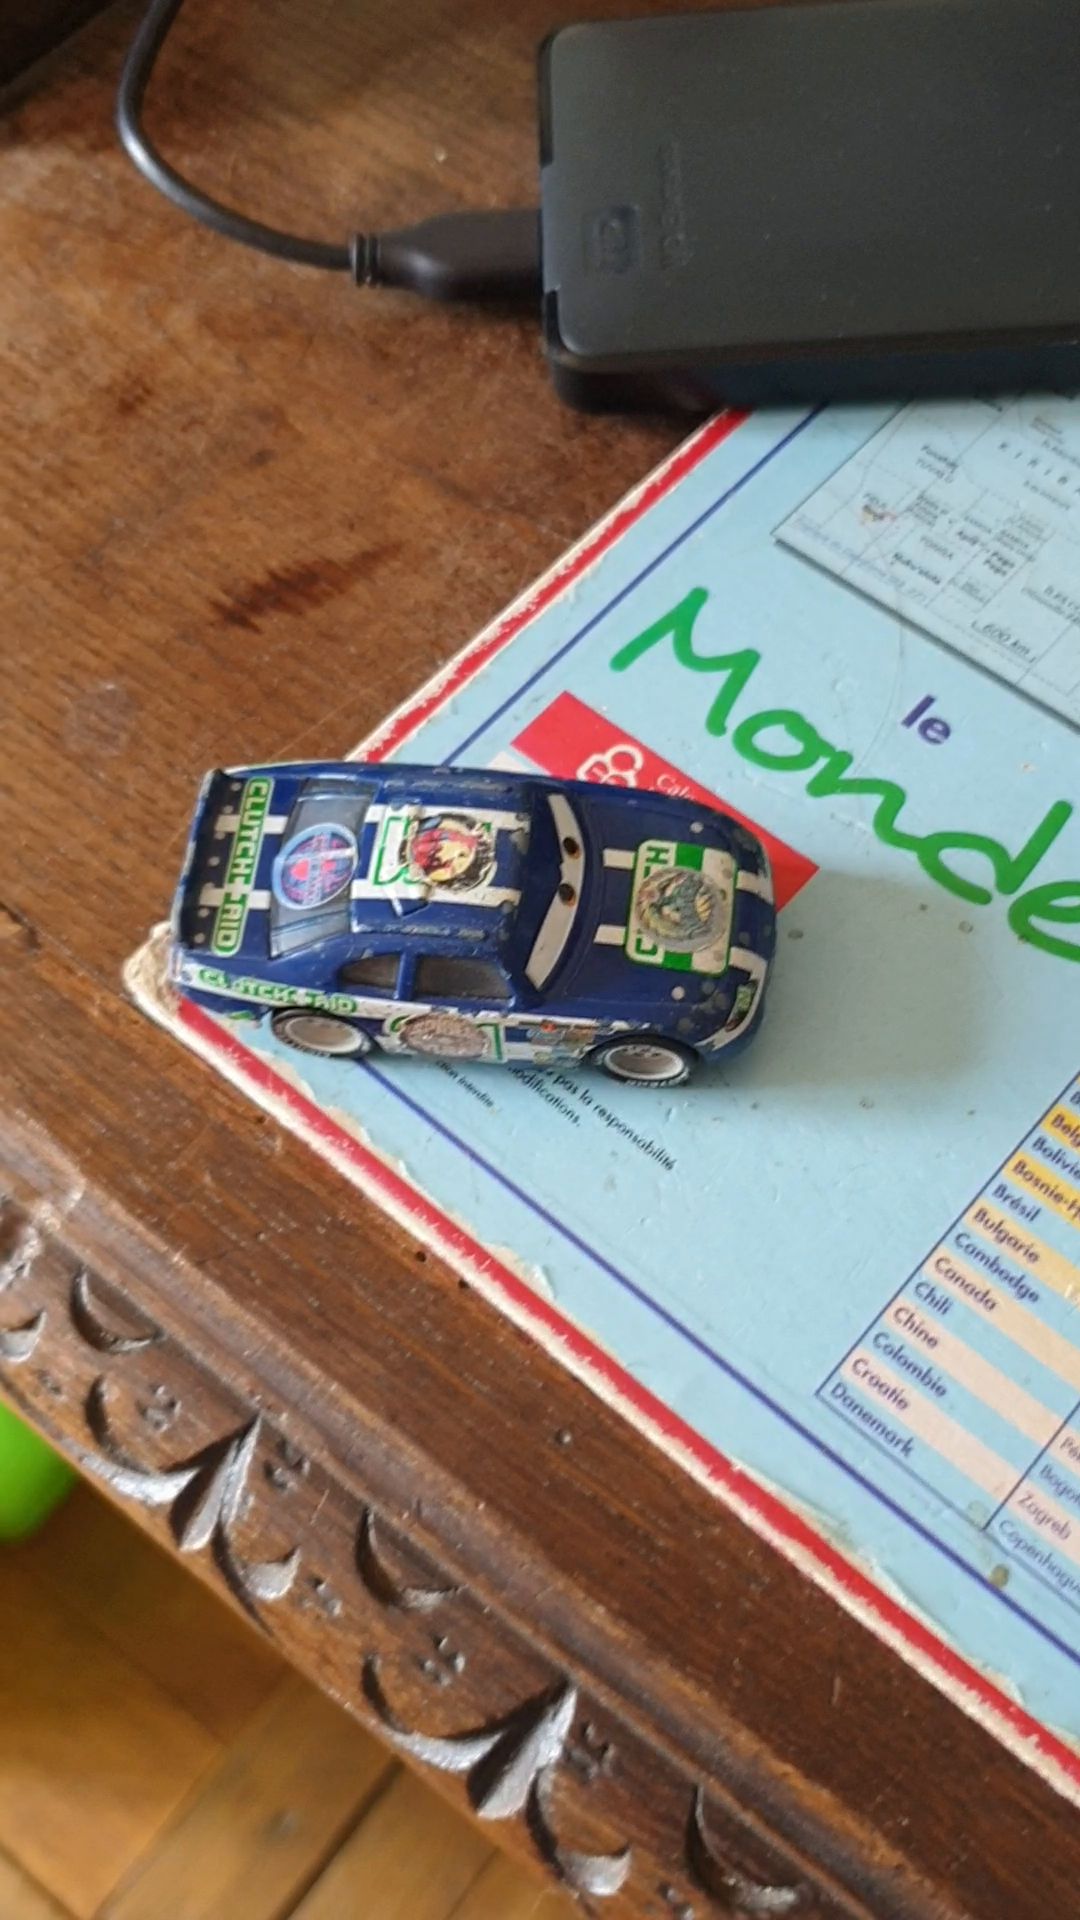cars: (169, 758, 775, 1093)
